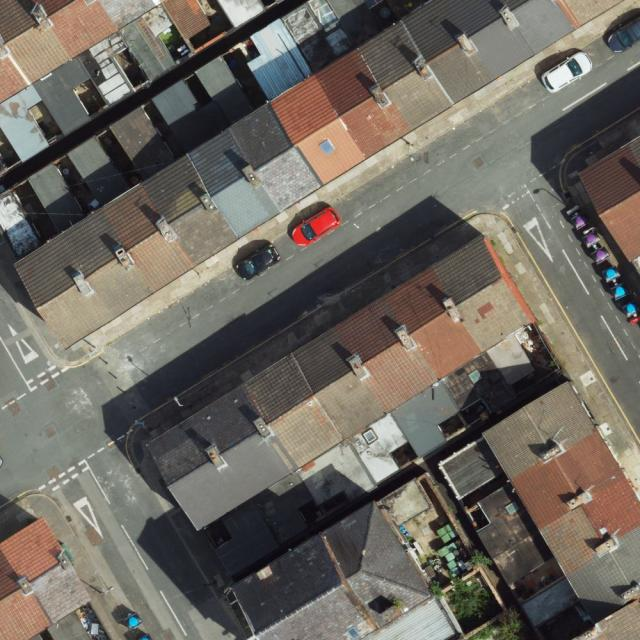roof: (0, 0, 630, 348), (147, 231, 537, 580), (440, 378, 640, 640), (226, 476, 467, 640), (0, 0, 223, 164), (0, 514, 94, 640), (580, 136, 640, 276), (218, 1, 268, 25)
skylight: (315, 136, 338, 157), (361, 428, 379, 445), (467, 369, 484, 386), (505, 499, 520, 517), (347, 624, 362, 639)
